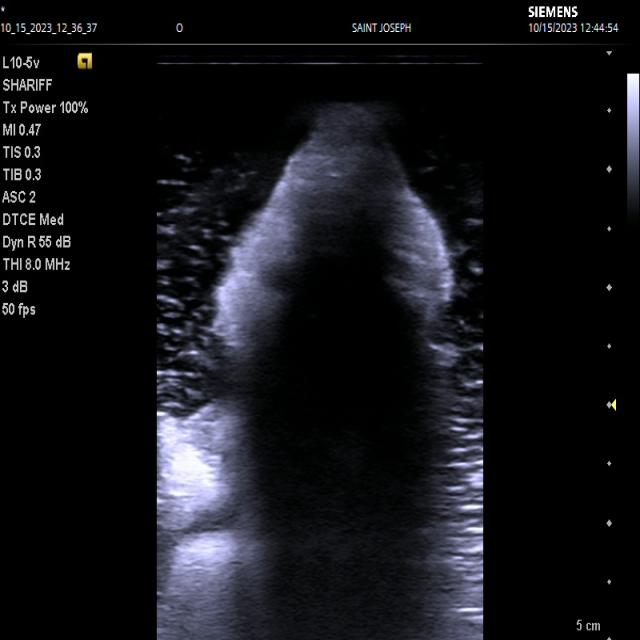tissue: (150, 107, 482, 640)
